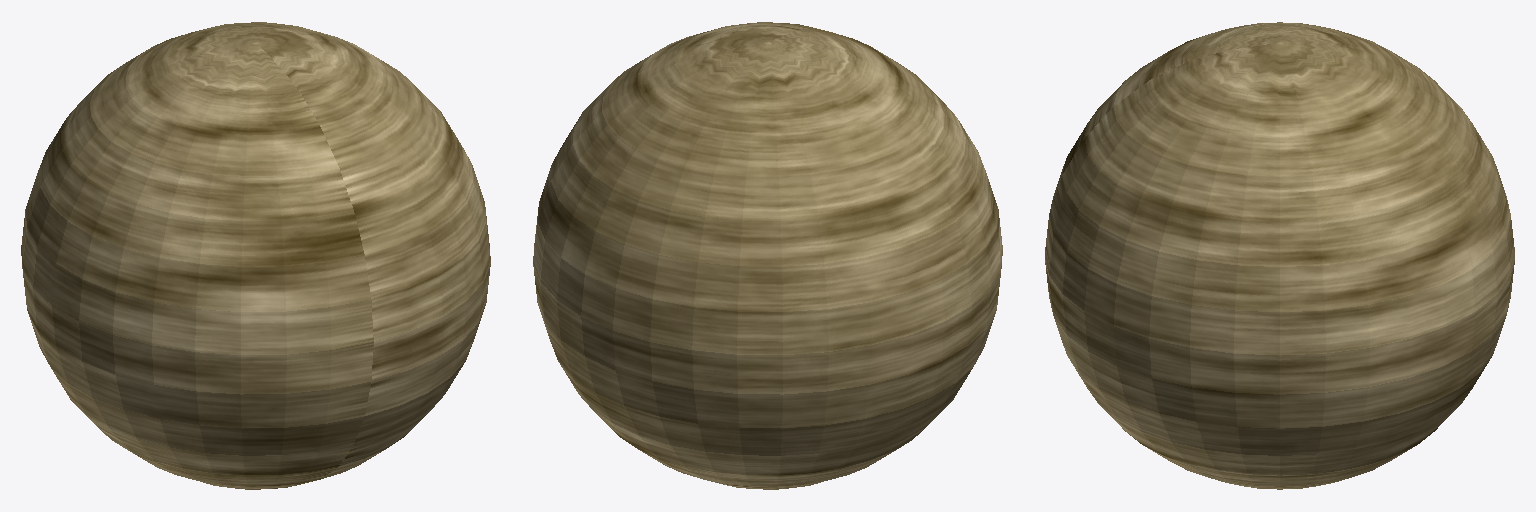
The picture shows the model from 3 angles: view 1: azimuth 30°, elevation 25°; view 2: azimuth 150°, elevation 25°; view 3: azimuth 270°, elevation 25°; orthographic projection.
Parts seen in each view (by area): view 1: sphere1; view 2: sphere1; view 3: sphere1.
Part boxes in pixels (left/top/right/bottom): sphere1: left=21, top=22, right=490, bottom=489; sphere1: left=533, top=22, right=1002, bottom=489; sphere1: left=1045, top=22, right=1514, bottom=489.
Size of the model in its own units: 1 by 1 by 1.
1 materials, 1 textured.